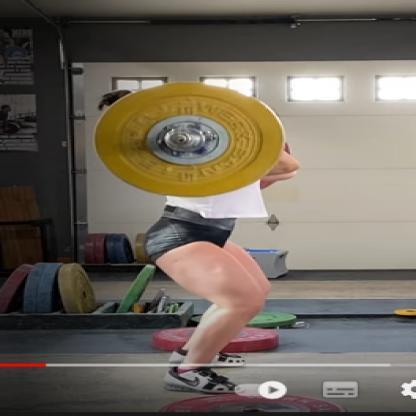barbell: (92, 77, 287, 198)
